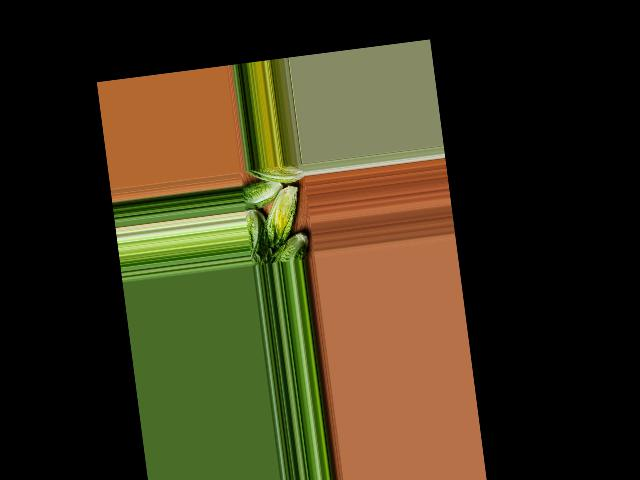lettuce: (247, 162, 304, 189)
